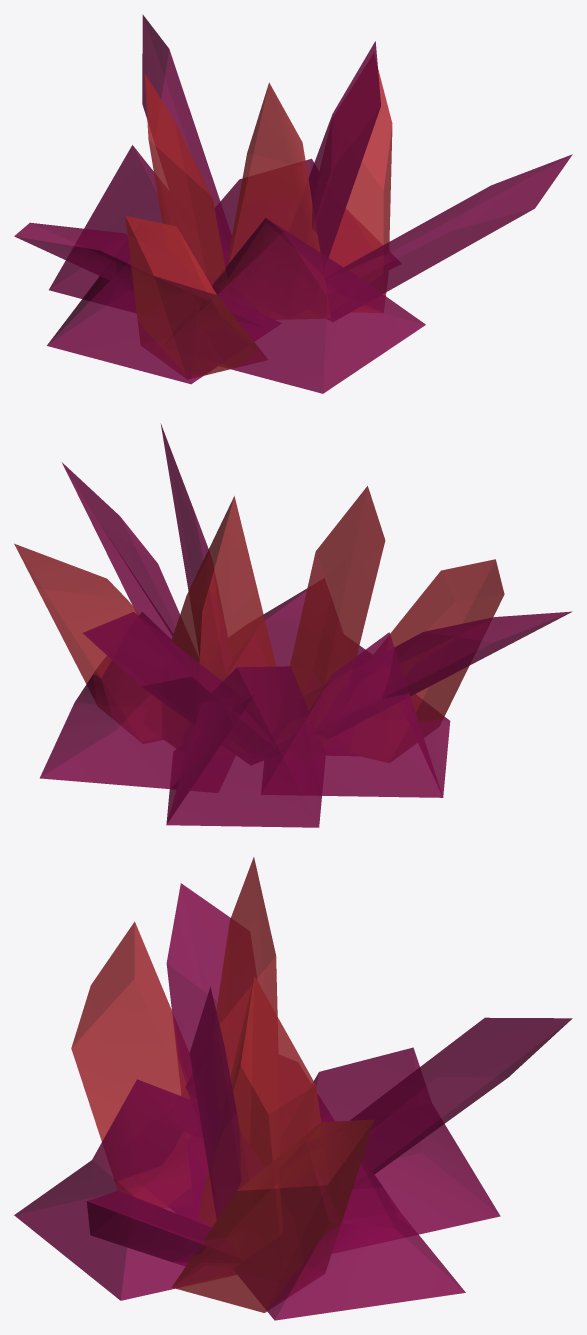
File: Shards01.fbx
3 renders of one model, top to bottom at view 1: azimuth 30°, elevation 25°; view 2: azimuth 150°, elevation 25°; view 3: azimuth 270°, elevation 25°, orthographic. The views are drawn at different scales.
Visible parts, largest first — view 1: polySurface39; view 2: polySurface39; view 3: polySurface39.
Boxes of the visible parts, x1=… form: polySurface39: x1=14, y1=14, x2=572, y2=393; polySurface39: x1=14, y1=423, x2=572, y2=827; polySurface39: x1=14, y1=857, x2=572, y2=1320.
Size of the model in its own units: 12.31 by 6.1 by 9.69.
